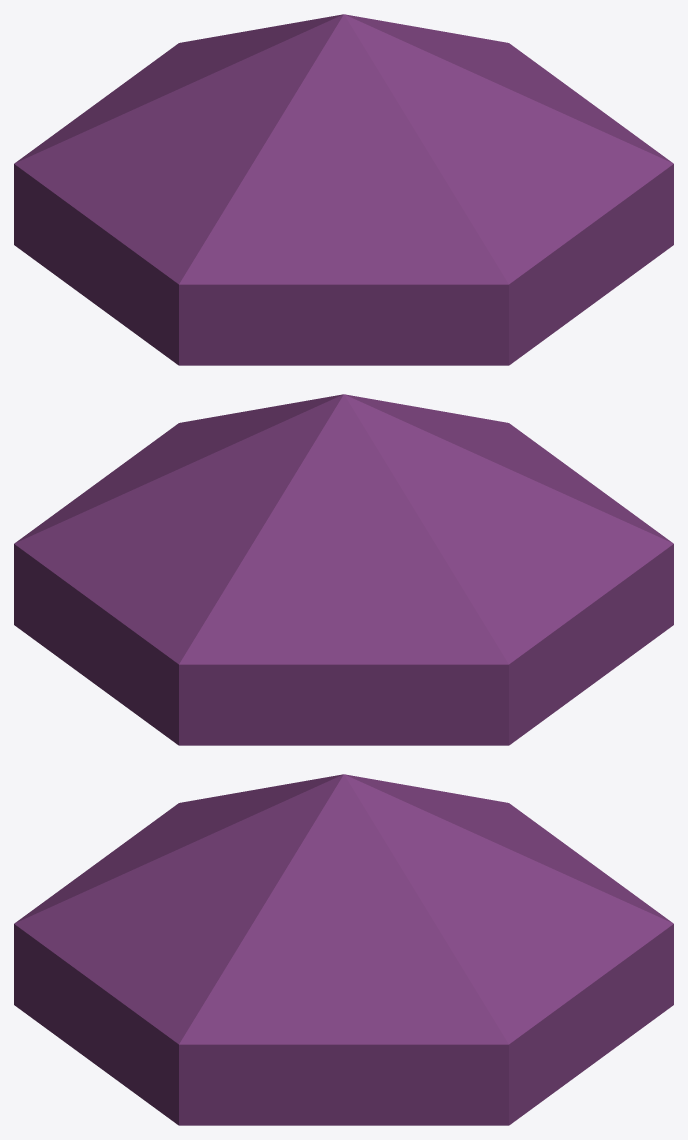
Rendered from base-hex-title-pointed-animation.glb.
3 views of the same model, one above another, from view 1: azimuth 30°, elevation 25°; view 2: azimuth 150°, elevation 25°; view 3: azimuth 270°, elevation 25° (orthographic).
Visible parts, largest first — view 1: Cylinder.001; view 2: Cylinder.001; view 3: Cylinder.001.
Part boxes in pixels (x1,y1,x2,y2): Cylinder.001: [14, 14, 673, 365]; Cylinder.001: [14, 394, 673, 745]; Cylinder.001: [14, 774, 673, 1125].
Bounding box in the file's own units: 1.73 × 0.7715 × 2.
